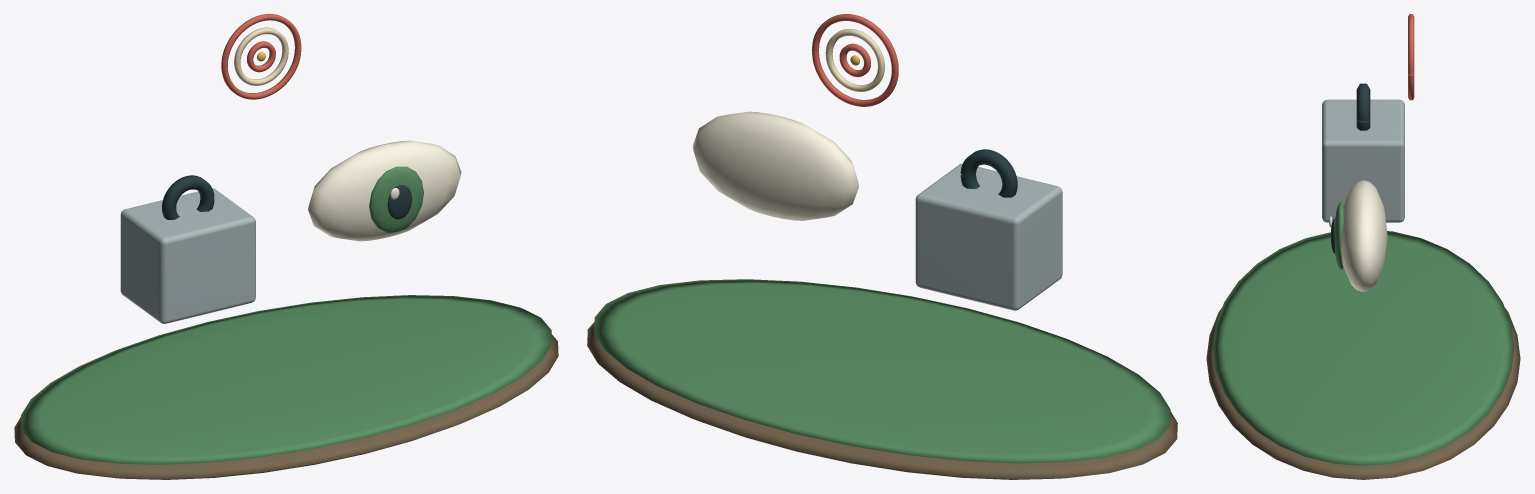
The model's file is complete-third-weighted-view.glb.
The picture shows the model from 3 angles, left to right: view 1: azimuth 30°, elevation 25°; view 2: azimuth 150°, elevation 25°; view 3: azimuth 270°, elevation 25°; orthographic projection. The views are drawn at different scales.
Visible parts, largest first — view 1: complete-third-weighted-view_surface_01, complete-third-weighted-view_surface_02, complete-third-weighted-view_surface_00, complete-third-weighted-view_surface_04, complete-third-weighted-view_surface_05, complete-third-weighted-view_surface_03, complete-third-weighted-view_surface_06; view 2: complete-third-weighted-view_surface_01, complete-third-weighted-view_surface_02, complete-third-weighted-view_surface_04, complete-third-weighted-view_surface_00, complete-third-weighted-view_surface_05, complete-third-weighted-view_surface_03, complete-third-weighted-view_surface_06; view 3: complete-third-weighted-view_surface_01, complete-third-weighted-view_surface_02, complete-third-weighted-view_surface_00, complete-third-weighted-view_surface_04, complete-third-weighted-view_surface_03, complete-third-weighted-view_surface_05.
Boxes of the visible parts, box(x1,y1,x2,y2) form: complete-third-weighted-view_surface_01: box(21, 166, 551, 464); complete-third-weighted-view_surface_02: box(120, 188, 255, 323); complete-third-weighted-view_surface_00: box(14, 335, 558, 479); complete-third-weighted-view_surface_04: box(308, 140, 461, 241); complete-third-weighted-view_surface_05: box(221, 14, 301, 99); complete-third-weighted-view_surface_03: box(162, 175, 412, 219); complete-third-weighted-view_surface_06: box(234, 27, 288, 85); complete-third-weighted-view_surface_01: box(594, 279, 1170, 463); complete-third-weighted-view_surface_02: box(915, 163, 1062, 310); complete-third-weighted-view_surface_04: box(692, 111, 858, 220); complete-third-weighted-view_surface_00: box(587, 322, 1177, 479); complete-third-weighted-view_surface_05: box(812, 14, 898, 106); complete-third-weighted-view_surface_03: box(960, 149, 1017, 197); complete-third-weighted-view_surface_06: box(825, 29, 884, 91); complete-third-weighted-view_surface_01: box(1212, 202, 1514, 465); complete-third-weighted-view_surface_02: box(1322, 99, 1404, 222); complete-third-weighted-view_surface_00: box(1206, 308, 1520, 479); complete-third-weighted-view_surface_04: box(1329, 180, 1387, 291); complete-third-weighted-view_surface_03: box(1330, 83, 1370, 253); complete-third-weighted-view_surface_05: box(1408, 14, 1414, 100).
Bounding box in the file's own units: 4.56 × 3.12 × 2.5.
